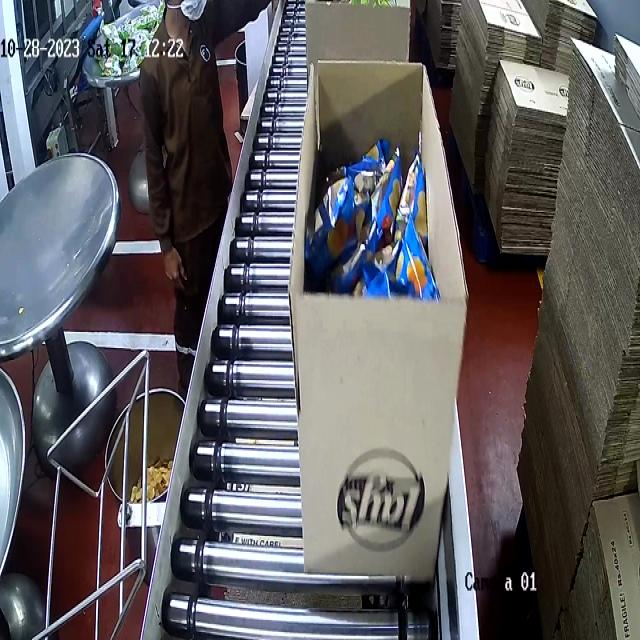PAPRIKA: (308, 132, 430, 298)
